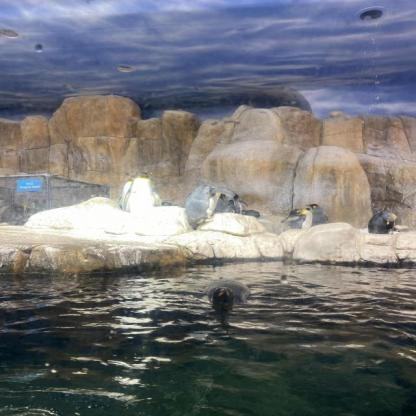penguin: (178, 185, 235, 231), (123, 172, 162, 213), (204, 278, 252, 308), (361, 211, 396, 236), (119, 173, 136, 213), (280, 209, 312, 230), (305, 204, 330, 228)
